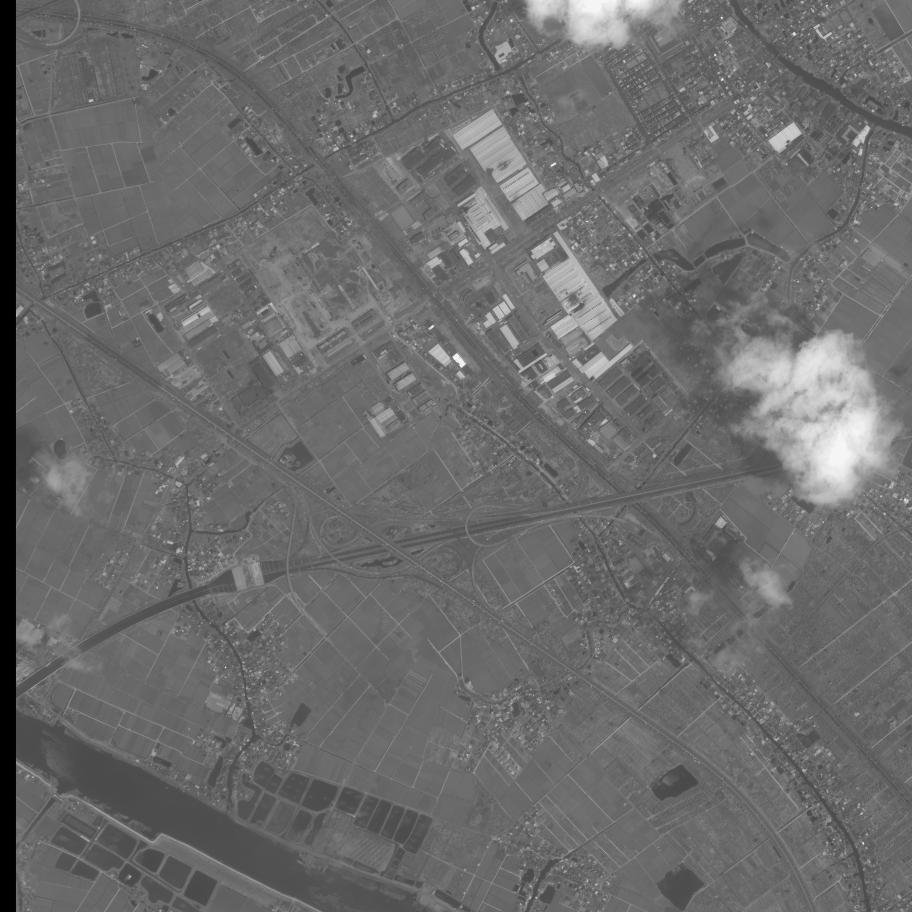ship: (320, 863, 329, 876), (296, 859, 307, 868)
